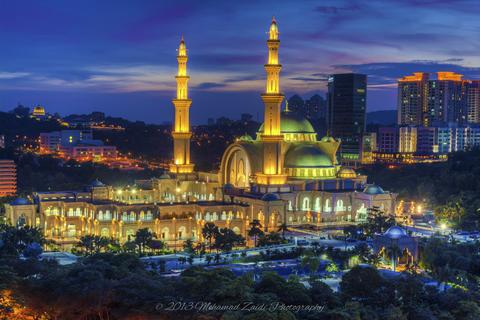Mosque: (69, 26, 375, 242)
